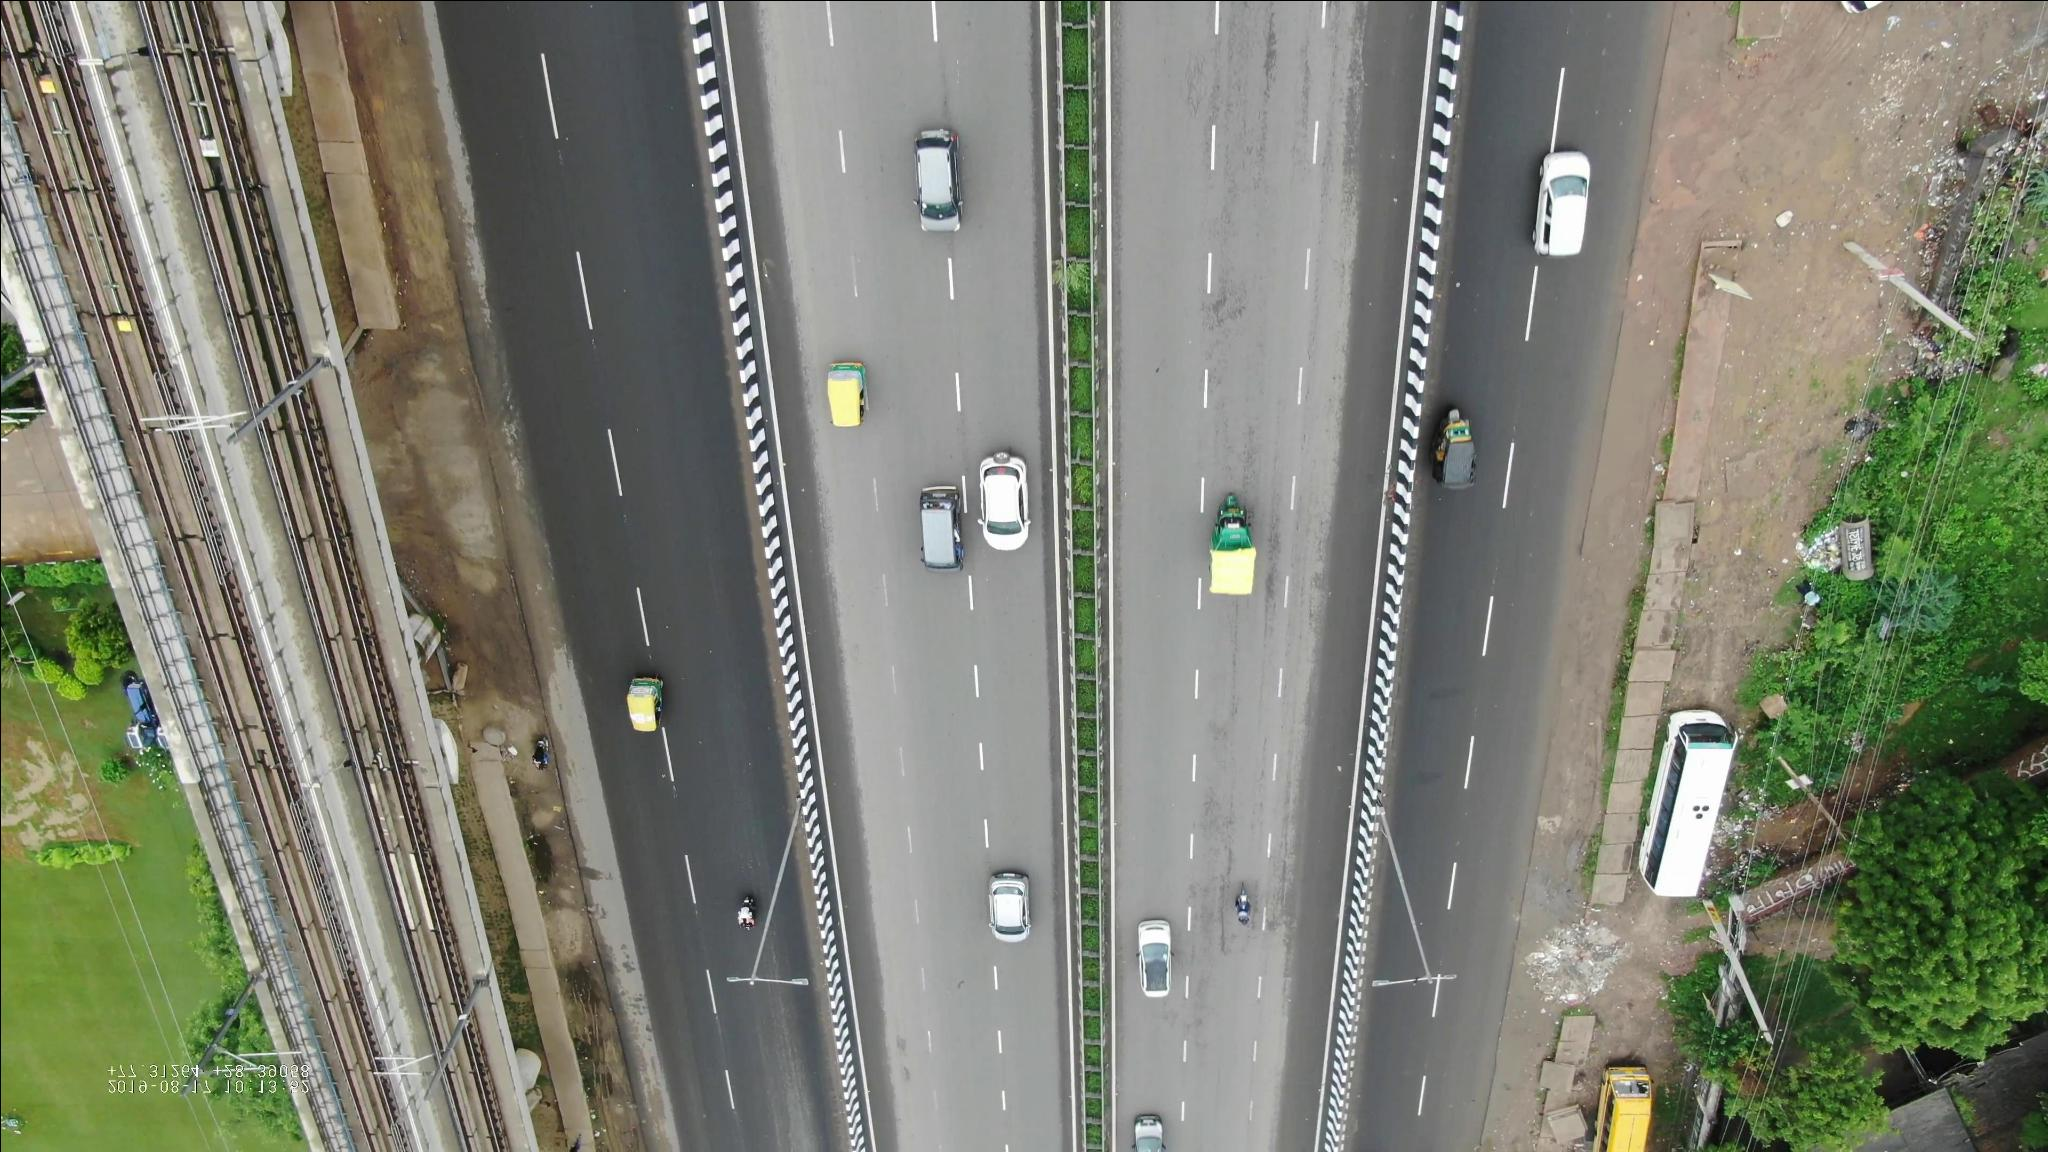Ravelling: (1196, 4, 1295, 345), (1186, 843, 1236, 994)
